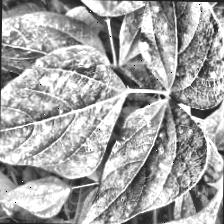Bean Rust: (0, 45, 118, 174), (70, 107, 200, 224), (131, 0, 224, 106), (0, 11, 102, 69), (44, 0, 158, 20)
